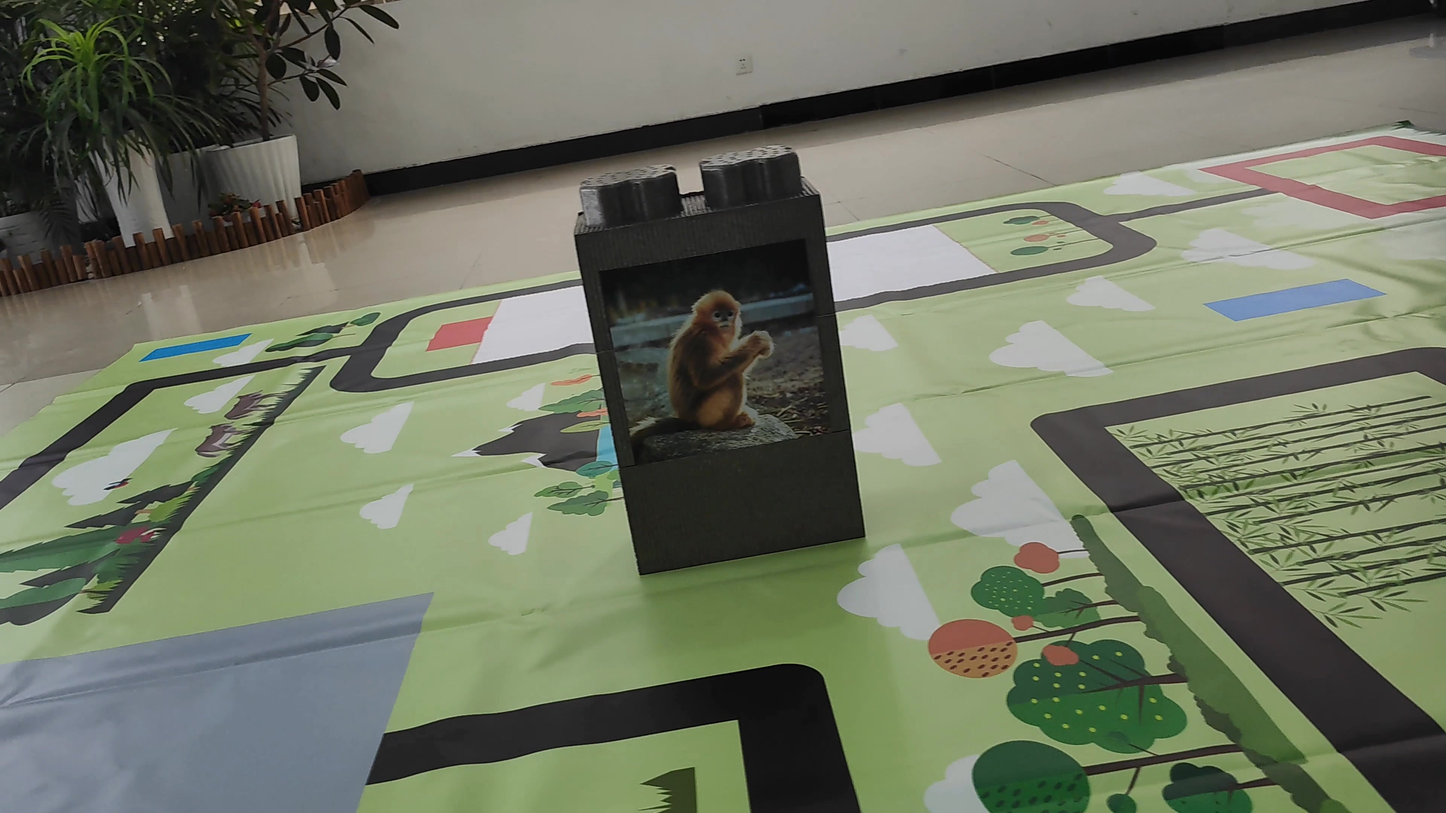monkey: (626, 271, 781, 455)
